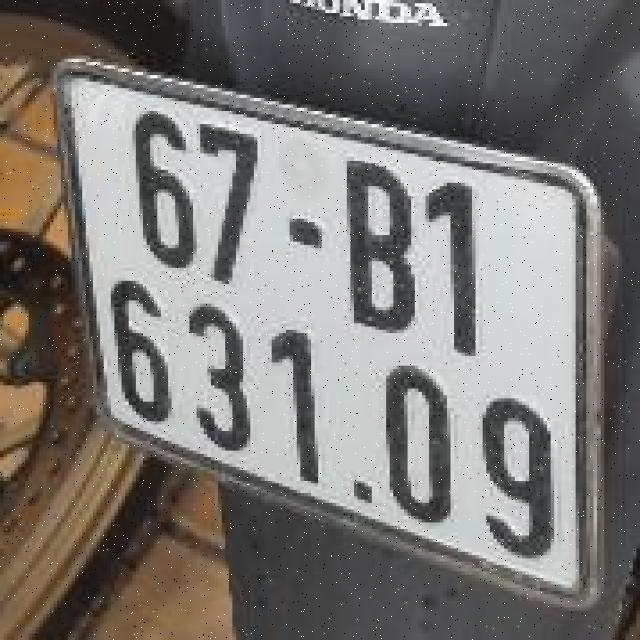0: (379, 355, 461, 537)
1: (423, 174, 487, 377), (265, 319, 333, 497)
3: (184, 298, 257, 462)
6: (126, 99, 198, 285), (105, 273, 179, 433)
7: (198, 116, 263, 304)
9: (476, 387, 559, 575)
B: (340, 154, 420, 349)
